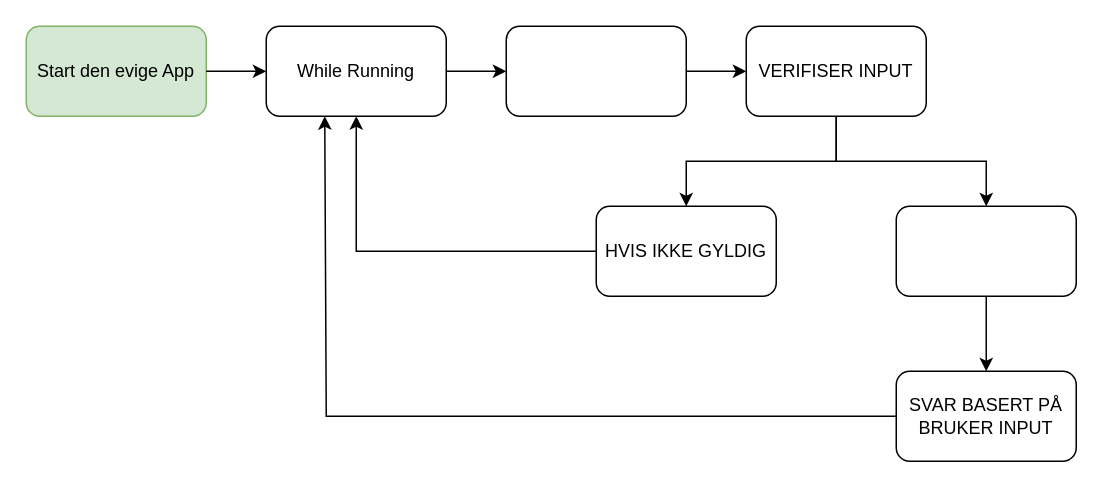
The diagram is 1103 pixels wide and 488 high, and some of its shapes have lost their labels. The shapes that lost their labels are listed below. From the top down, each one's centre as x and y in pixels, then its label:
the point at 595,70: SPØR BRUKER OM INPUT
the point at 985,250: HVIS GYLDIG
